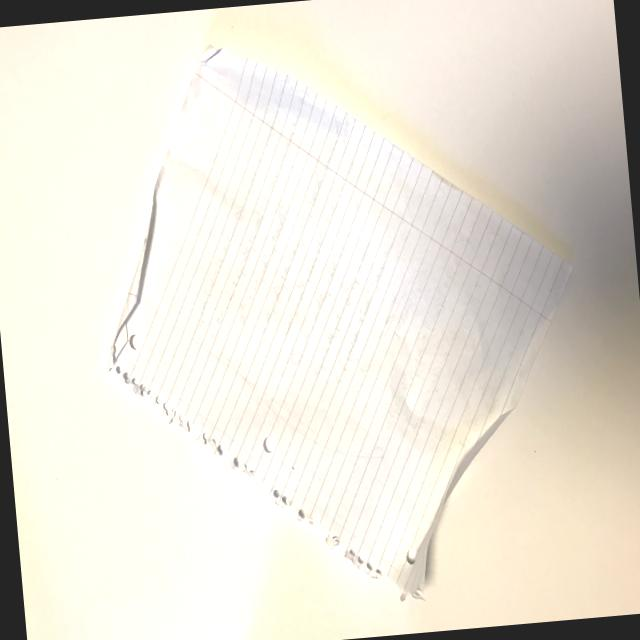Paper: (70, 9, 600, 640)
